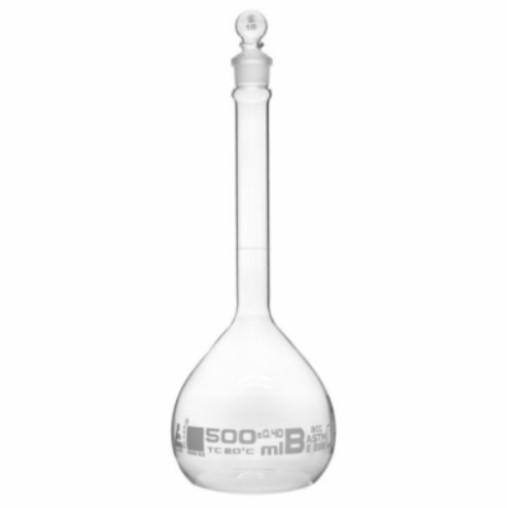Volumetric flask: (168, 5, 342, 490)
